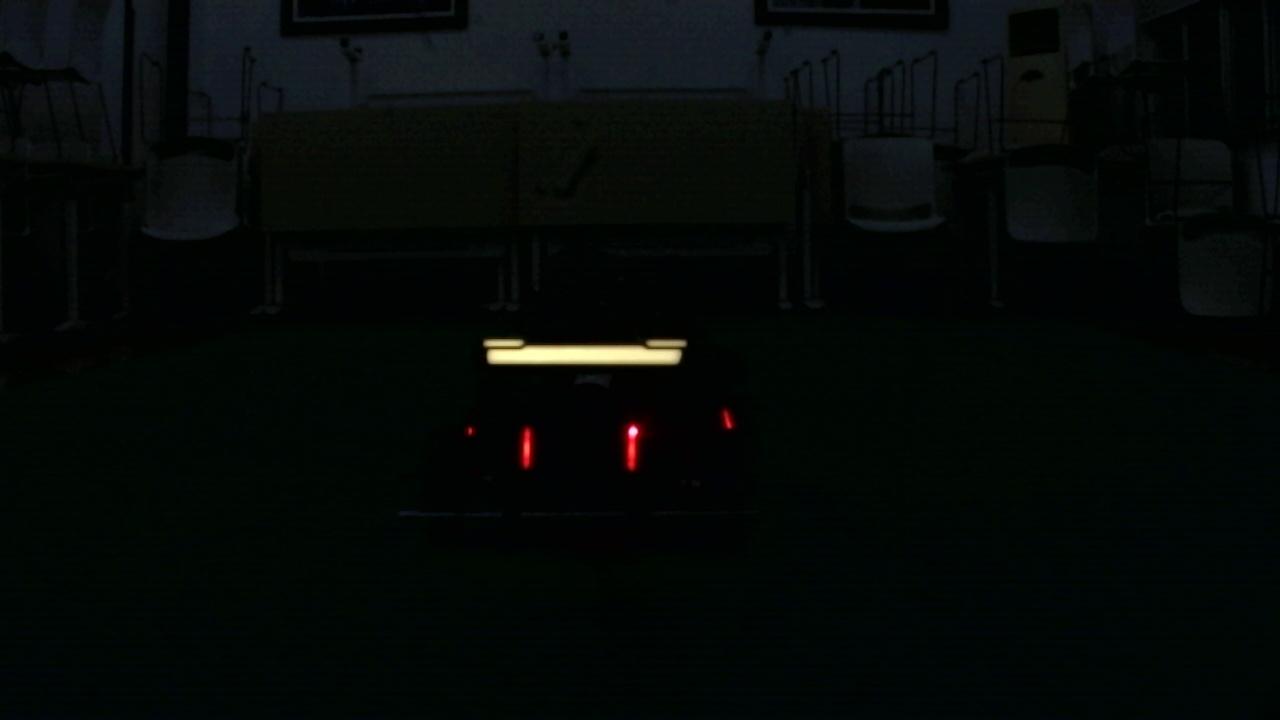lamp: (623, 422, 640, 472), (522, 427, 532, 471)
pair1: (521, 427, 640, 470)
